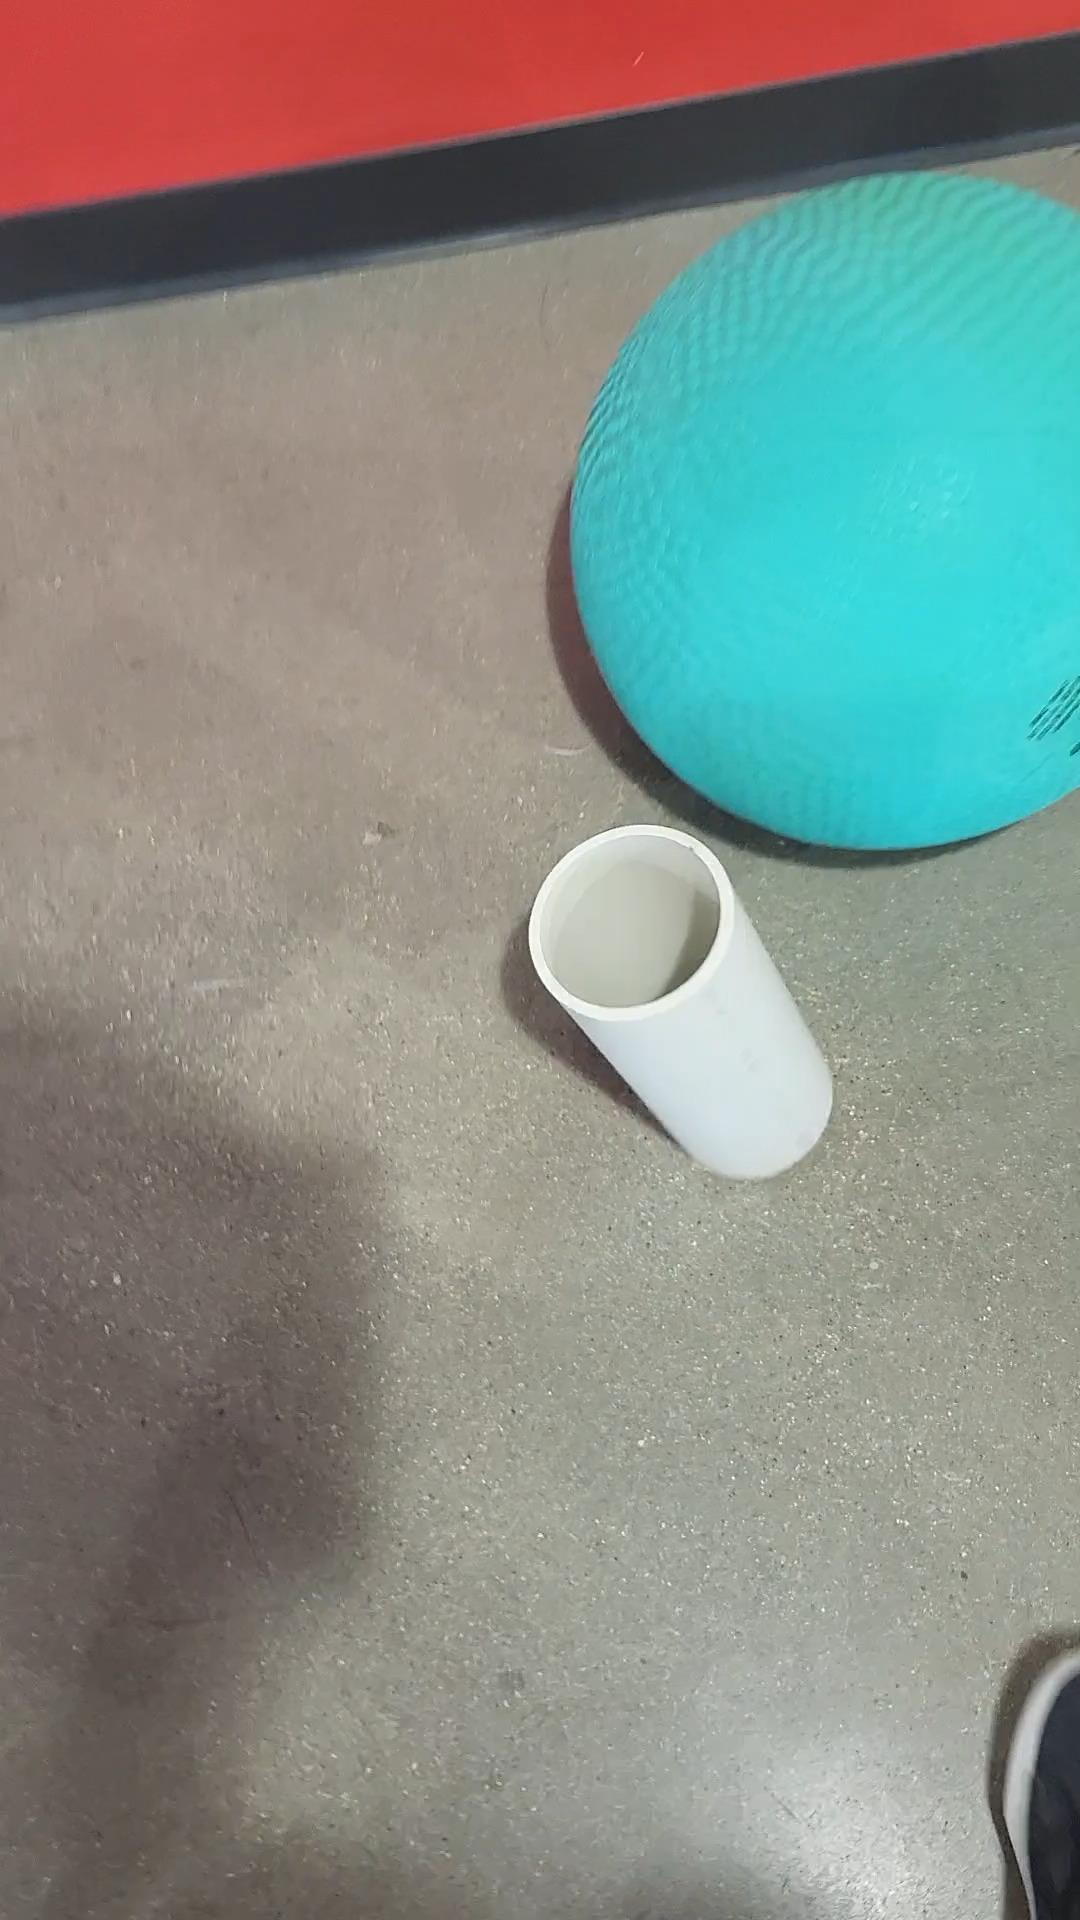coral: (543, 152, 1080, 869), (471, 811, 858, 1200)
